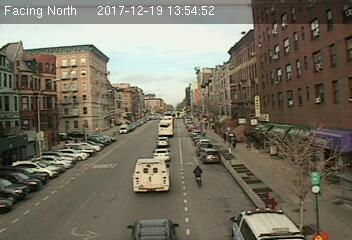bicycle: (193, 165, 204, 187)
bus: (158, 118, 174, 136)
car: (125, 217, 181, 240), (199, 148, 221, 163), (151, 148, 172, 158), (155, 136, 169, 146)
police: (229, 205, 306, 240)
truck: (133, 157, 169, 193)
